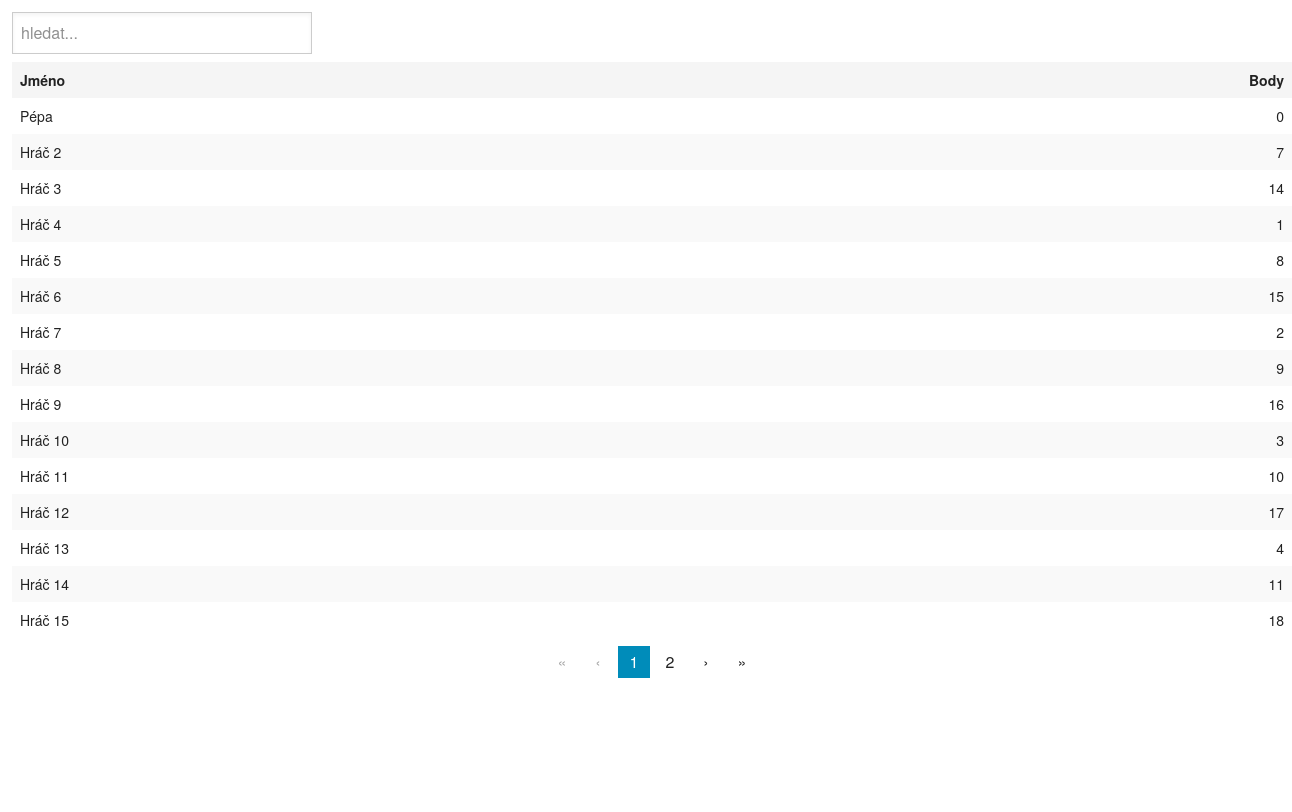
Scenario: url prefix isolates params
This screenshot has width=1292, height=812.
Click the button "Body". click: (1266, 80)
box: [1249,70,1284,90]
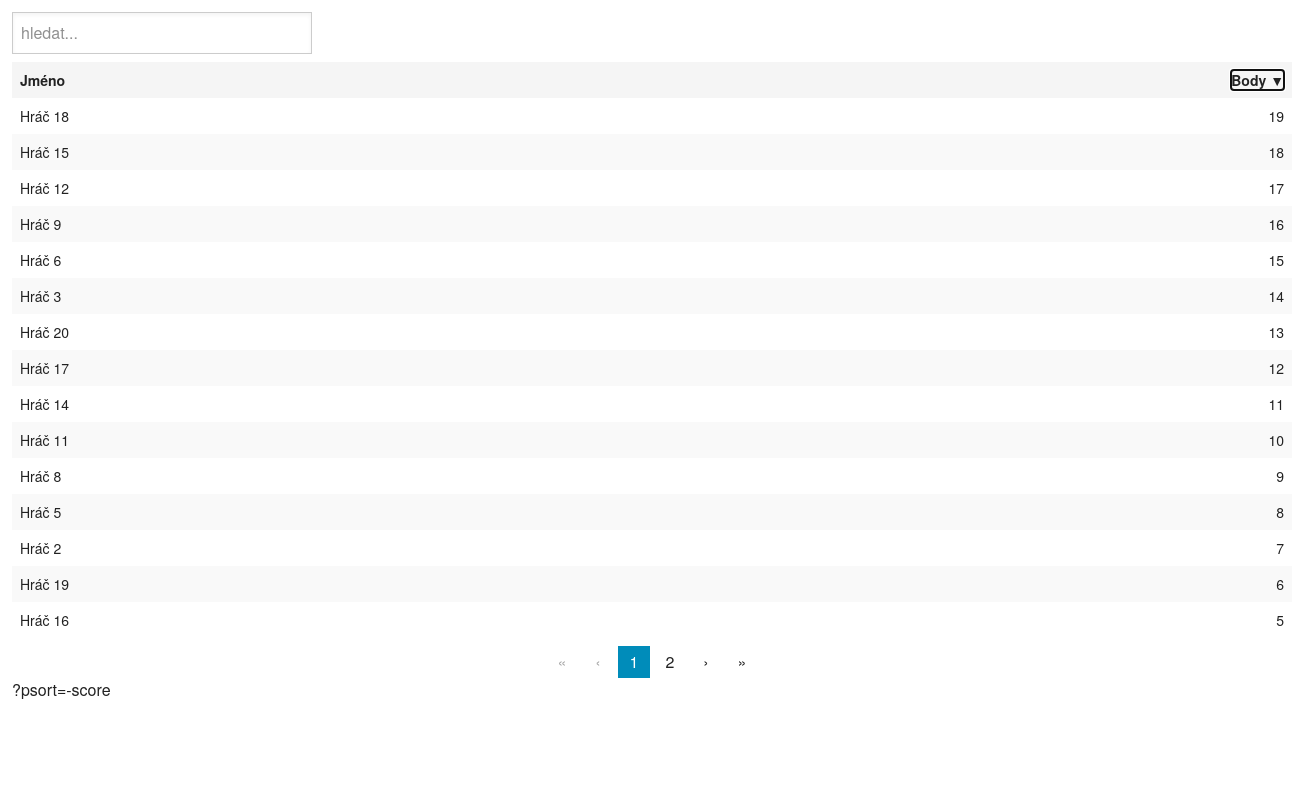
expect the text with test id "loc" shows "psort=-score": met, box [12,678,111,701]
